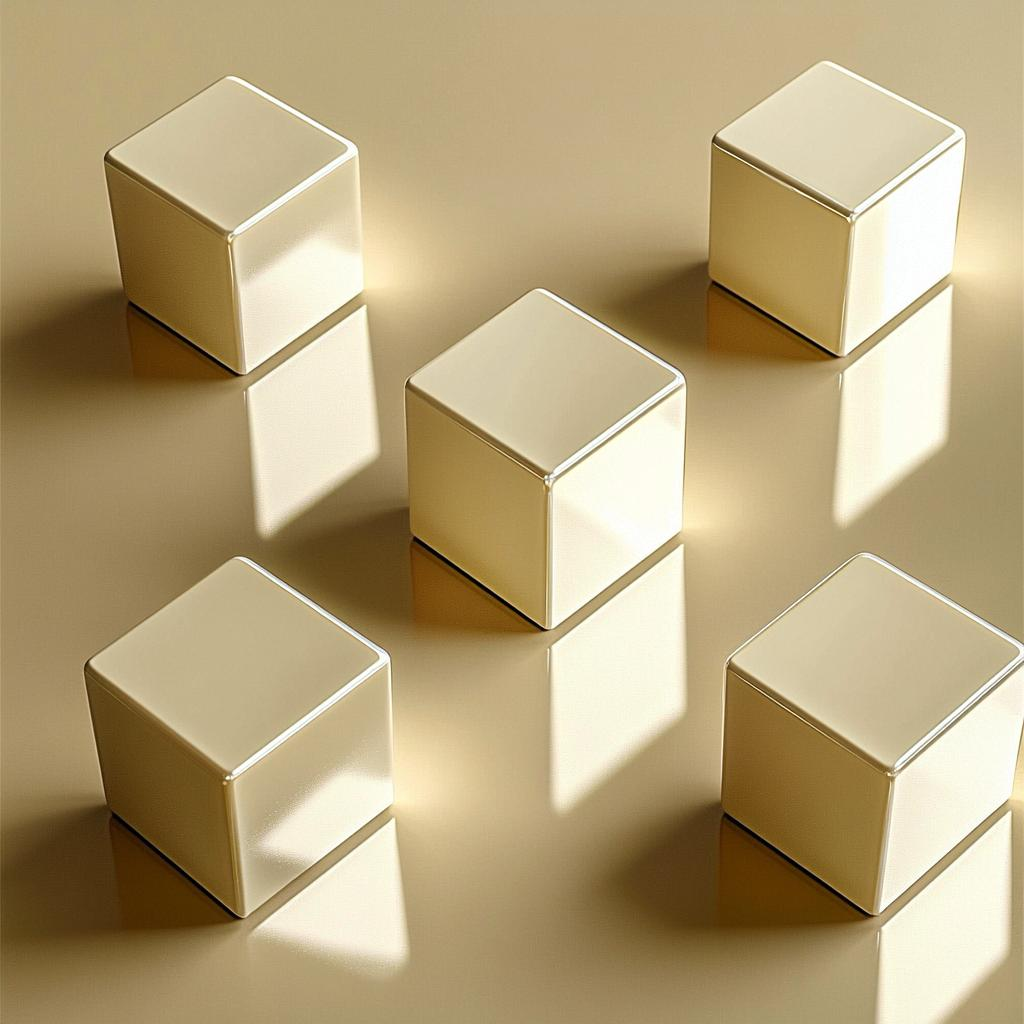cube: (82, 553, 394, 919), (719, 549, 1023, 916), (403, 285, 686, 629), (103, 73, 364, 375), (706, 58, 966, 358)
